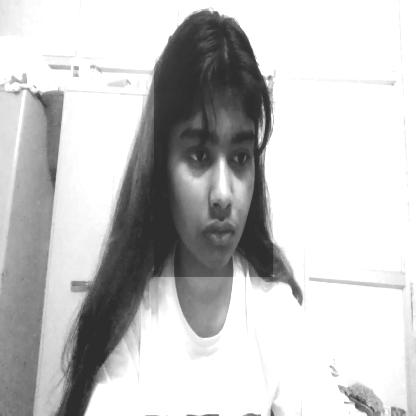Normal: (154, 11, 273, 277)
